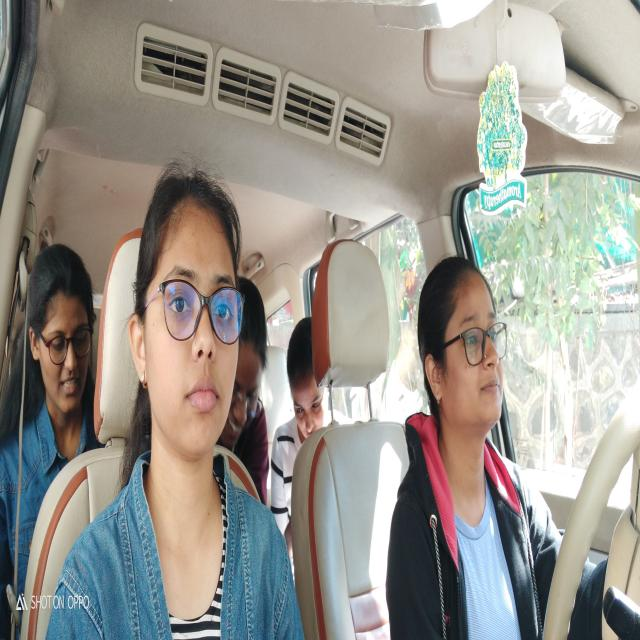person: (129, 150, 244, 473), (419, 243, 514, 448), (27, 249, 97, 429), (286, 318, 332, 449), (238, 249, 268, 438)
